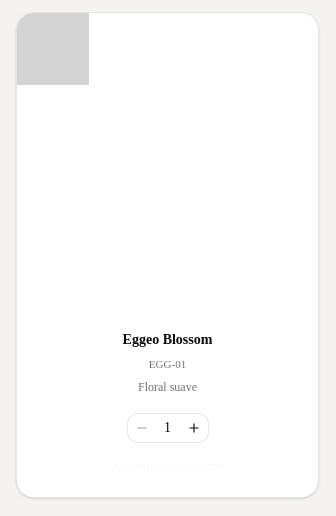
it: ProductGrid › never lets the stepper go past the available stock
Click the button named "Aumentar quantidade" at (194, 428), box [180, 414, 208, 442]
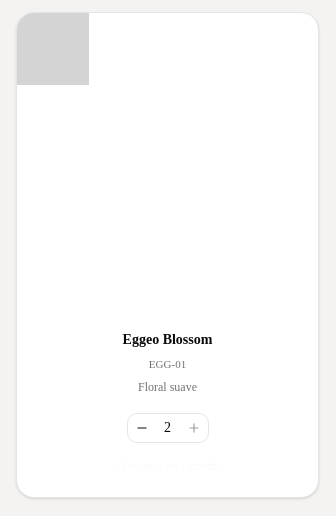
expect the text "2" is shown: met, box [164, 420, 171, 434]
expect the button named "Aumentar quantidade" is disabled: met, box [180, 414, 208, 442]
